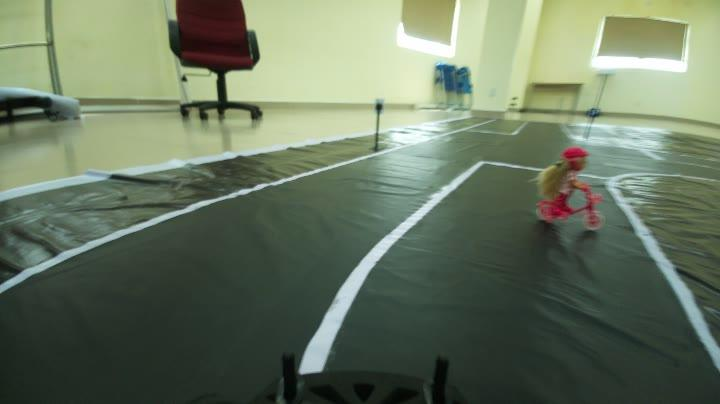pedestrian: (537, 145, 608, 233)
